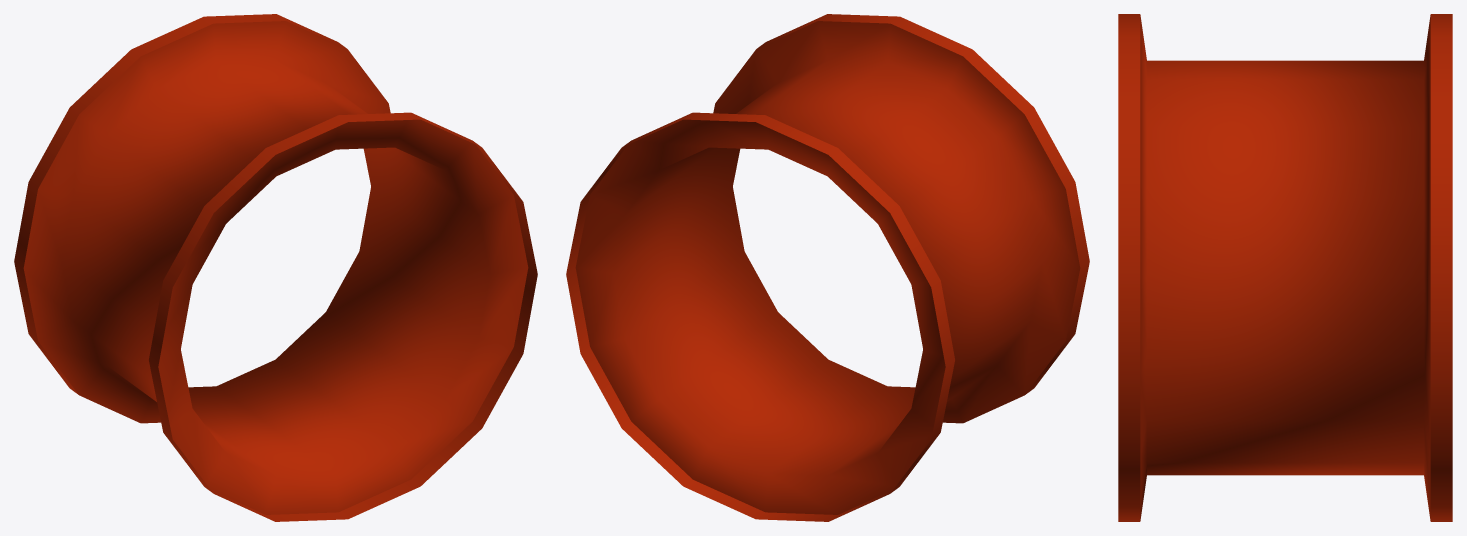
The model's file is Pipe_04_LOD0.FBX.
3 renders of one model, left to right at view 1: azimuth 30°, elevation 25°; view 2: azimuth 150°, elevation 25°; view 3: azimuth 270°, elevation 25°, orthographic. The views are drawn at different scales.
Parts seen in each view (by area): view 1: Pipe_up1_004_Low_LOD0; view 2: Pipe_up1_004_Low_LOD0; view 3: Pipe_up1_004_Low_LOD0.
Part boxes in pixels (x1,y1,x2,y2): Pipe_up1_004_Low_LOD0: (14, 14, 537, 521); Pipe_up1_004_Low_LOD0: (566, 14, 1089, 521); Pipe_up1_004_Low_LOD0: (1118, 14, 1452, 521).
Bounding box in the file's own units: 38 × 38 × 25.
